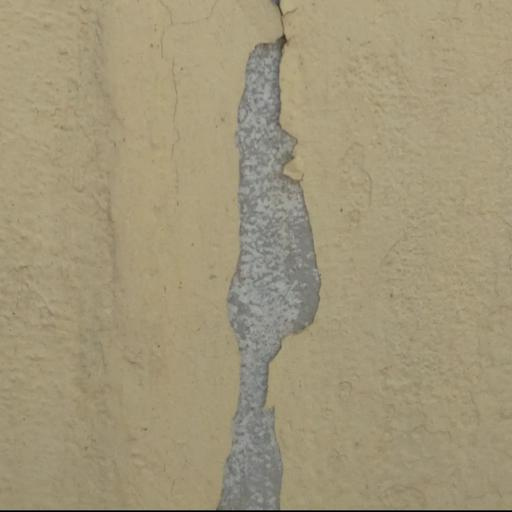peeling: (149, 0, 344, 512)
